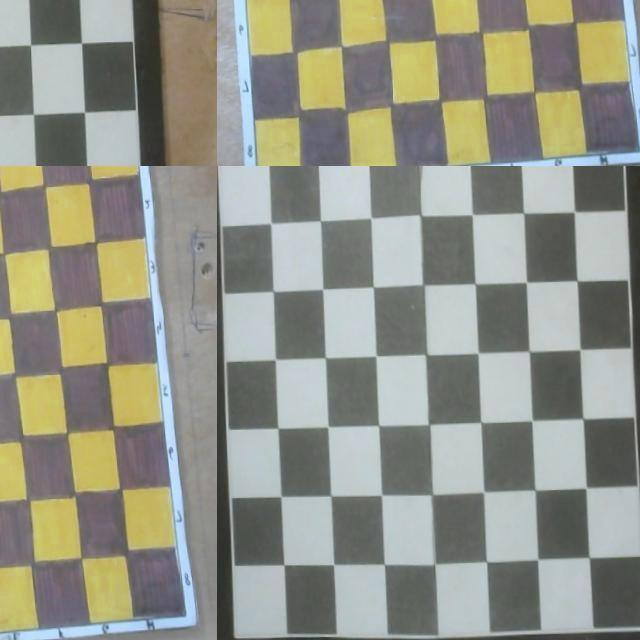chess-table-corners: (233, 631, 238, 640), (117, 0, 122, 4), (619, 166, 624, 170), (637, 145, 640, 151), (185, 610, 188, 616), (218, 0, 223, 3), (0, 0, 3, 4), (586, 0, 590, 3), (131, 166, 135, 169), (0, 166, 2, 169)
